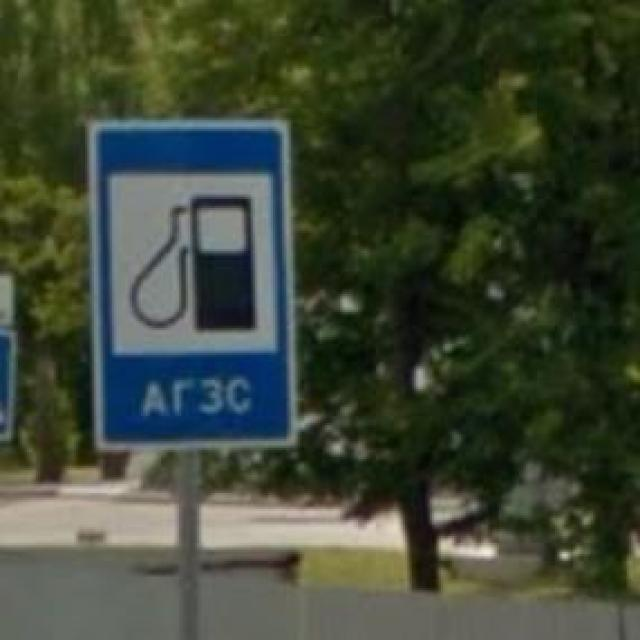traffic_sign: (85, 115, 298, 452)
